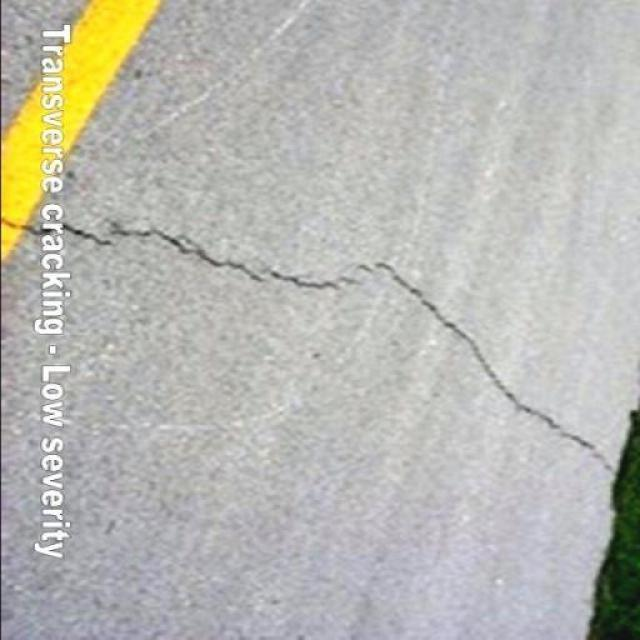moderate crack: (379, 270, 602, 463), (256, 0, 328, 50), (334, 581, 386, 637), (157, 79, 218, 126), (144, 420, 240, 435), (104, 517, 116, 533)
severe crack: (21, 218, 458, 607), (105, 4, 470, 257), (434, 7, 640, 264), (112, 224, 329, 282), (371, 261, 447, 316), (271, 259, 381, 294), (587, 448, 620, 478), (438, 314, 464, 334)
